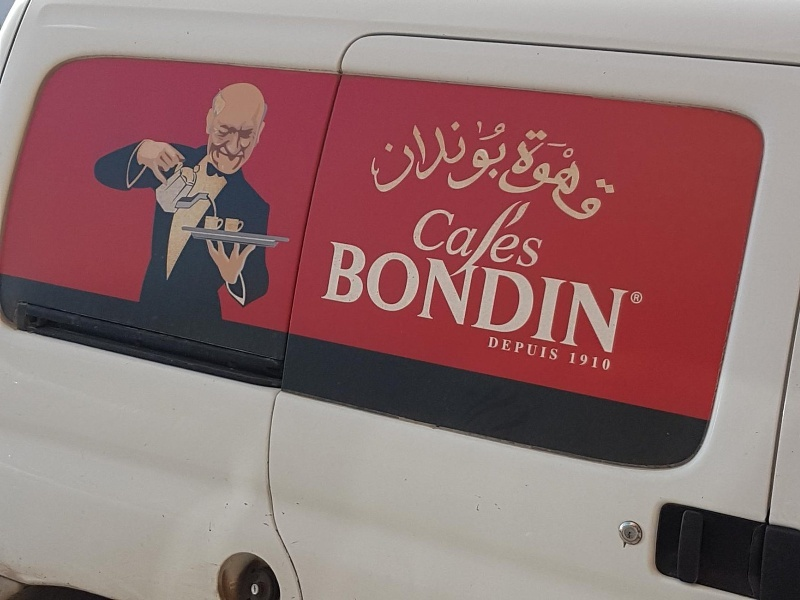text: (337, 238, 352, 356), (353, 238, 368, 356), (369, 238, 384, 356), (385, 238, 400, 356), (401, 238, 416, 356), (417, 238, 432, 356), (433, 238, 448, 356), (449, 238, 464, 356), (465, 238, 480, 356), (481, 238, 496, 356), (497, 238, 512, 356), (513, 238, 528, 356), (529, 238, 544, 356), (545, 238, 560, 356), (561, 238, 576, 356), (577, 238, 592, 356), (593, 238, 608, 356), (609, 238, 624, 356), (545, 119, 560, 226), (561, 119, 576, 226), (577, 119, 592, 226), (593, 119, 608, 226), (323, 238, 336, 356), (433, 195, 448, 288), (449, 195, 464, 288), (465, 195, 480, 288), (481, 195, 496, 288), (497, 195, 512, 288), (513, 195, 528, 288), (529, 195, 544, 288), (609, 119, 622, 226), (418, 195, 432, 288), (385, 117, 400, 199), (401, 117, 416, 199), (417, 117, 432, 199), (433, 117, 448, 199), (449, 117, 464, 199), (465, 117, 480, 199), (481, 117, 496, 199), (497, 117, 512, 199), (536, 119, 544, 226), (374, 117, 384, 199), (625, 238, 630, 356), (513, 117, 520, 199), (497, 335, 512, 362), (513, 335, 528, 362), (529, 335, 544, 362), (545, 335, 560, 362), (577, 350, 592, 373), (593, 350, 608, 373), (487, 335, 496, 362), (569, 350, 576, 373), (609, 350, 614, 373), (545, 195, 546, 288), (633, 293, 640, 303)
